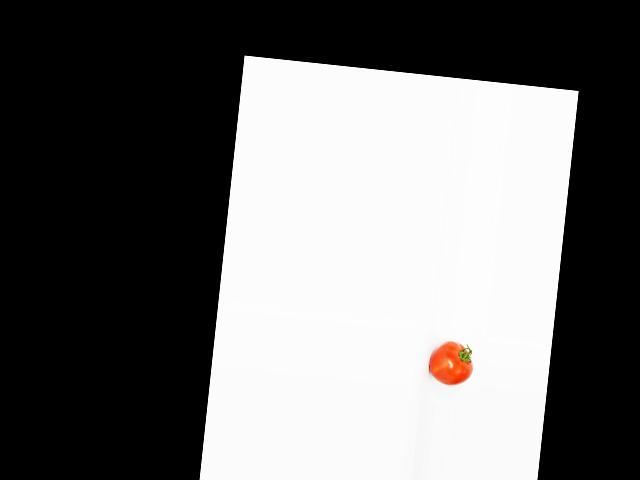tomato: (427, 339, 475, 387)
